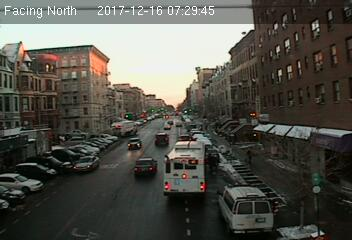bus: (165, 139, 211, 199)
car: (73, 155, 102, 174), (133, 157, 157, 178), (127, 137, 142, 151), (155, 132, 170, 146), (177, 133, 191, 142)
pedestrian: (244, 147, 254, 166)
police: (217, 182, 274, 234)
